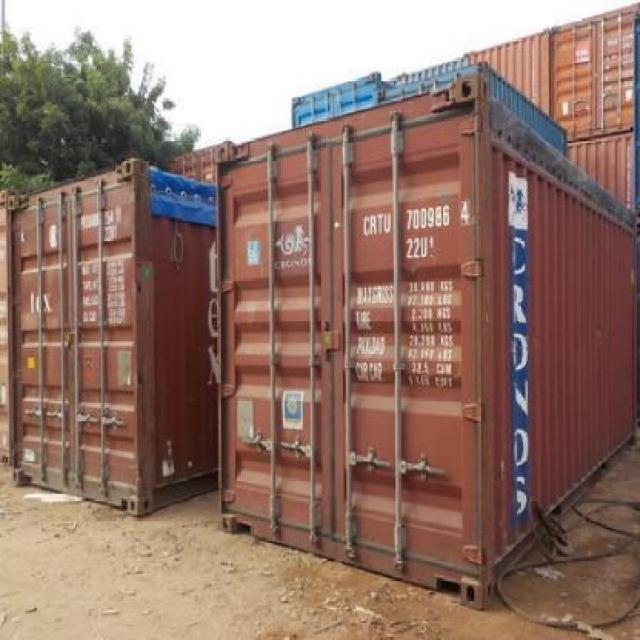ISO: (404, 236, 440, 256)
container_number: (359, 207, 477, 234)
